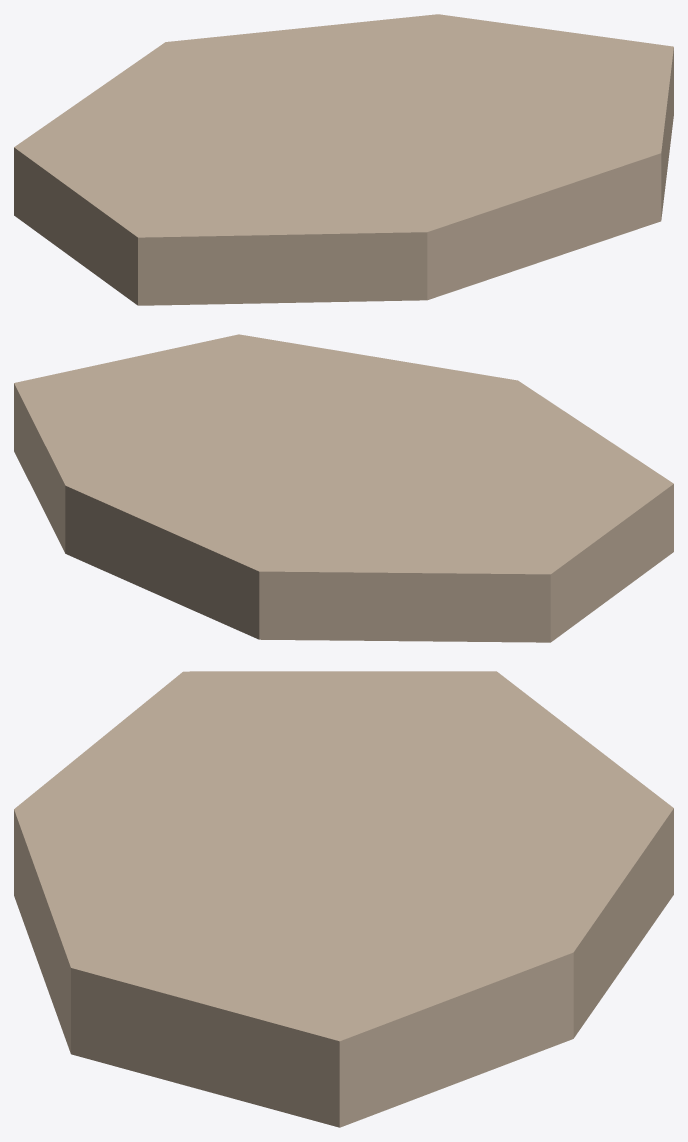
File: stone_path_1.glb
3 views of the same model, one above another, from view 1: azimuth 30°, elevation 25°; view 2: azimuth 150°, elevation 25°; view 3: azimuth 270°, elevation 25° (orthographic). The views are drawn at different scales.
Parts seen in each view (by area): view 1: stone_path_1; view 2: stone_path_1; view 3: stone_path_1.
Boxes of the visible parts, x1=… form: stone_path_1: x1=14, y1=14, x2=673, y2=305; stone_path_1: x1=14, y1=334, x2=673, y2=642; stone_path_1: x1=14, y1=671, x2=673, y2=1127.
Size of the model in its own units: 1.01 by 0.11 by 0.7612.
